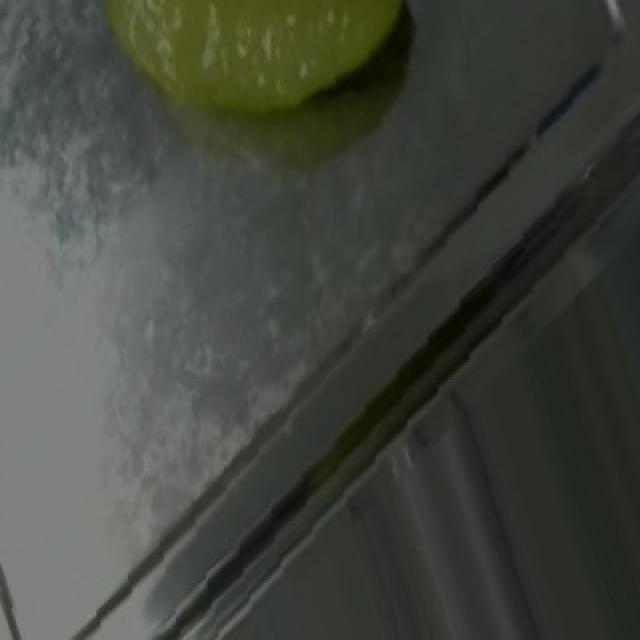fruit: (76, 0, 440, 164)
